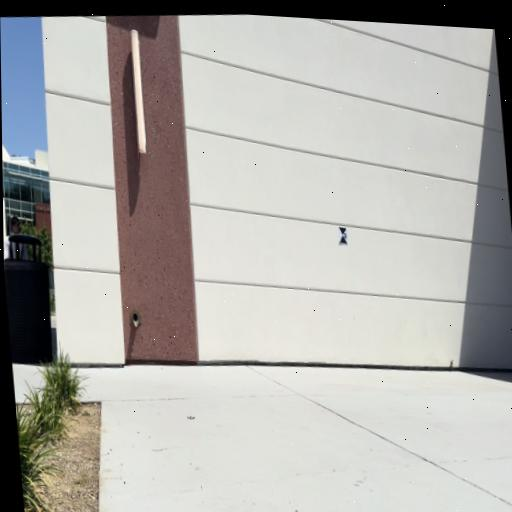target0: (339, 226, 348, 245)
